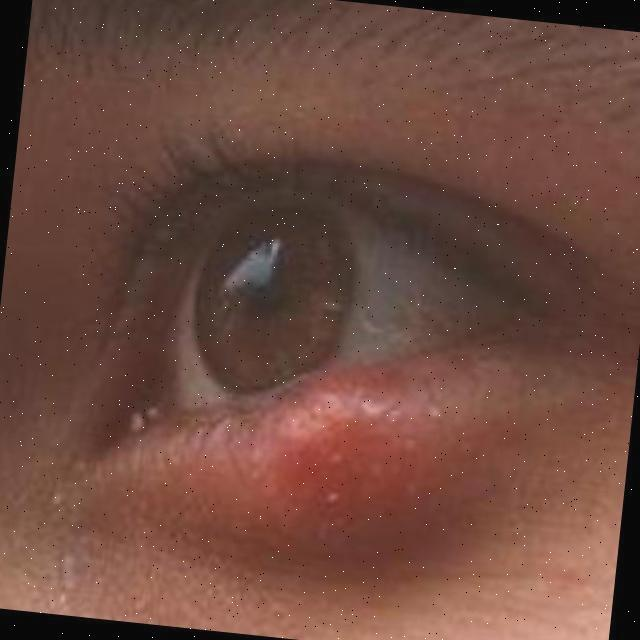Stye: (133, 343, 502, 603)
